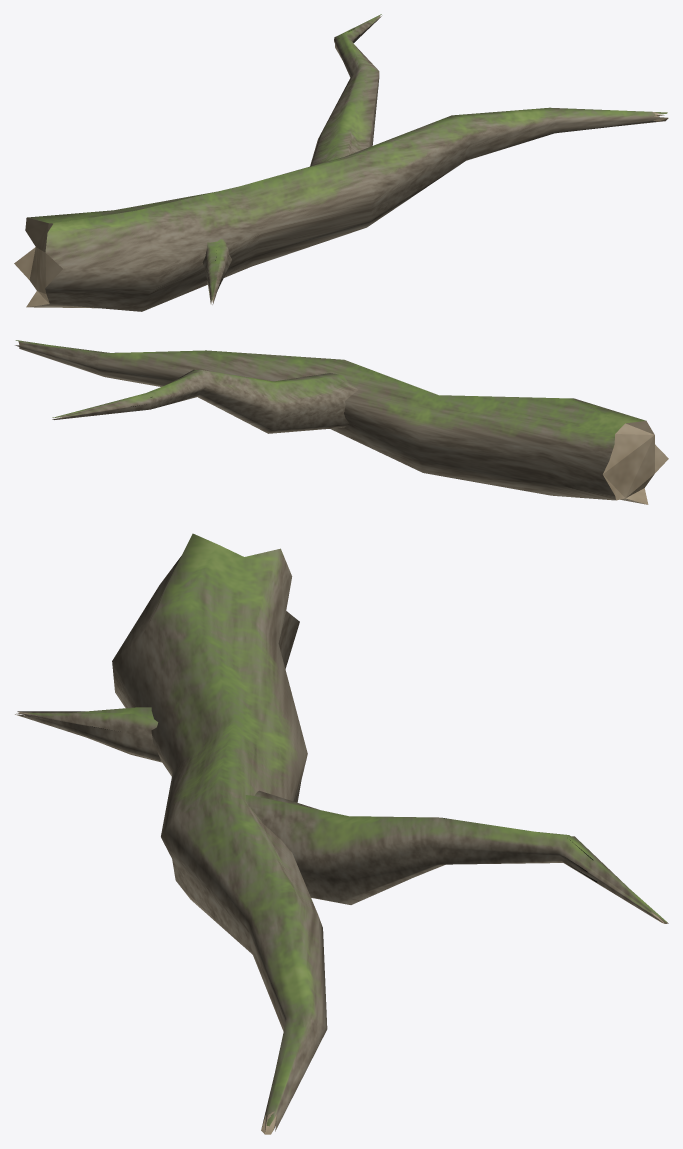
The model's file is 11_Fallen_Branch.glb.
3 renders of one model, top to bottom at view 1: azimuth 30°, elevation 25°; view 2: azimuth 150°, elevation 25°; view 3: azimuth 270°, elevation 25°, orthographic. The views are drawn at different scales.
Parts seen in each view (by area): view 1: 11_Fallen_Branch_Body; view 2: 11_Fallen_Branch_Body; view 3: 11_Fallen_Branch_Body.
Boxes of the visible parts, <box> form: 11_Fallen_Branch_Body: <box>14,14,668,311</box>; 11_Fallen_Branch_Body: <box>15,340,668,504</box>; 11_Fallen_Branch_Body: <box>15,533,668,1134</box>.
Size of the model in its own units: 1.77 by 0.2804 by 0.9489.
1 material, 1 textured.
